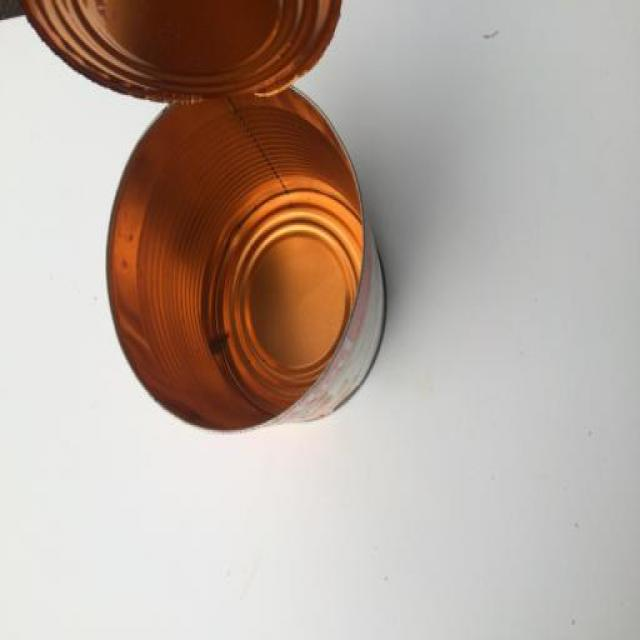metel: (3, 1, 503, 531)
